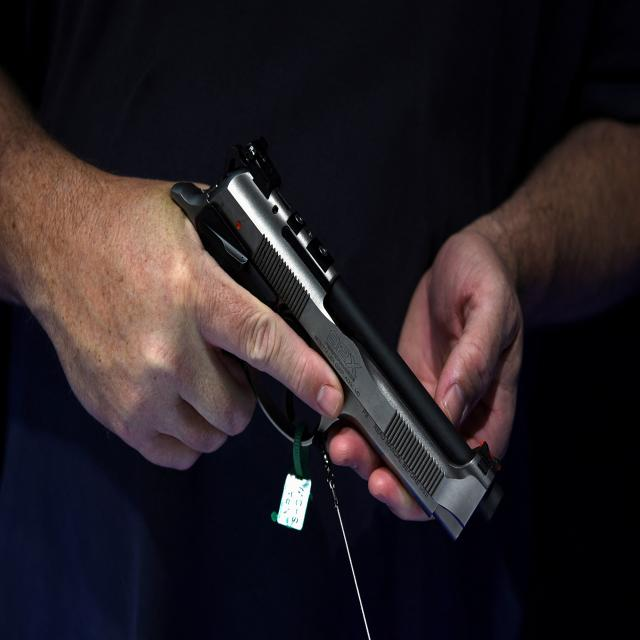HandGun: (159, 132, 511, 553)
